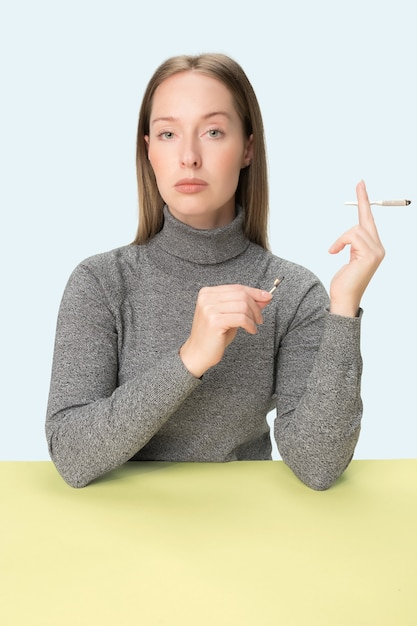cigarette: (344, 199, 413, 206)
